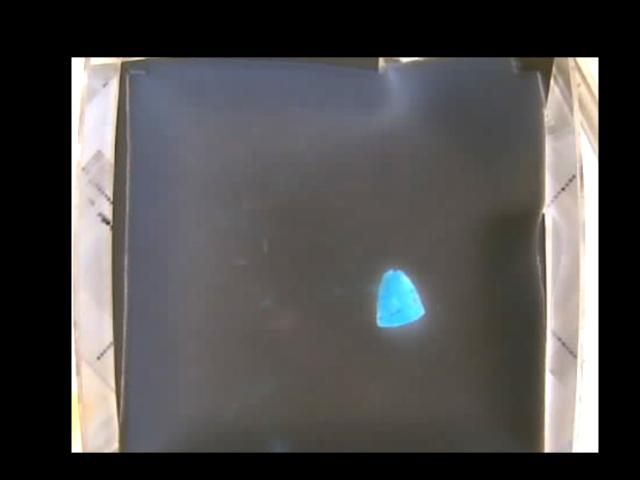Carrot: (376, 268, 425, 327)
